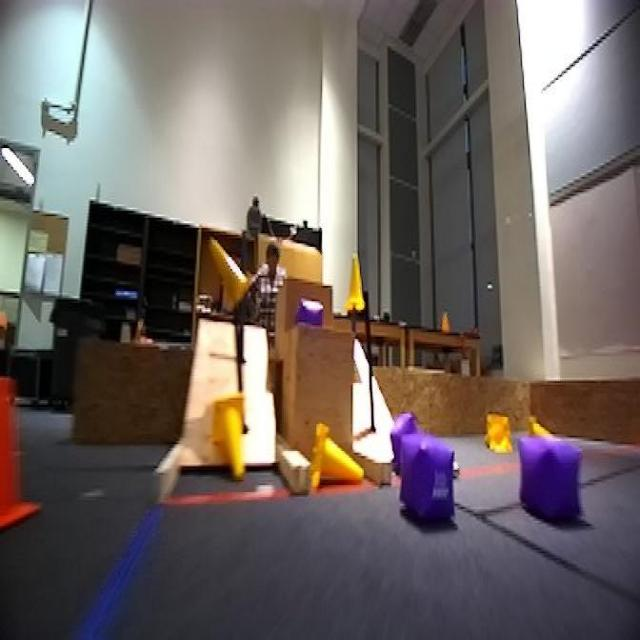frc_cone: (205, 393, 256, 482), (308, 420, 364, 497), (207, 231, 250, 310), (340, 255, 370, 317), (485, 412, 511, 451), (529, 416, 561, 438)
frc_cube: (517, 422, 588, 543), (400, 431, 456, 531), (378, 412, 415, 478), (294, 294, 330, 334)
